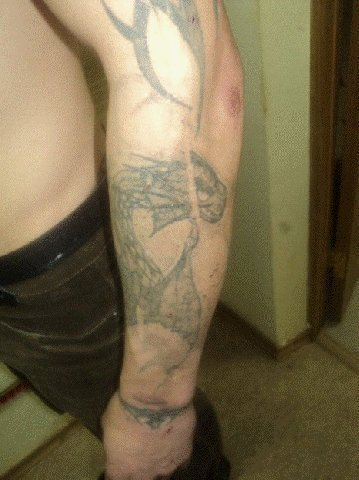tatu6_drakon: (105, 141, 235, 363)
